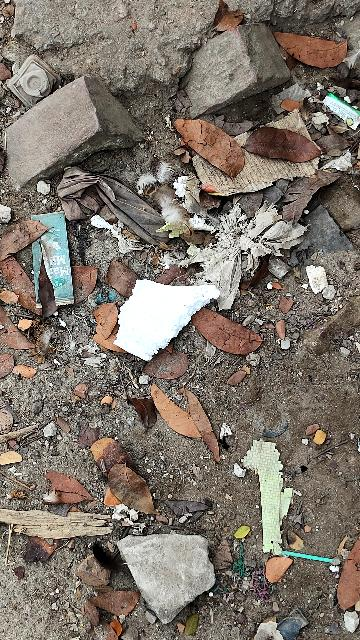cocksheet: (111, 268, 207, 378)
